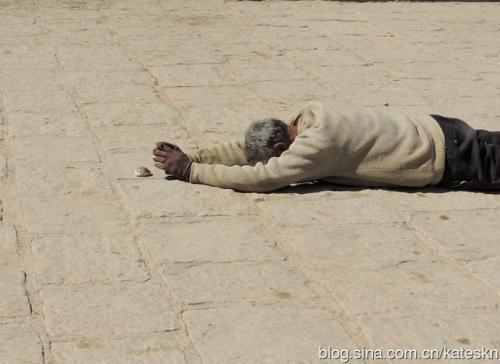Fall-Detected: (137, 89, 483, 201)
